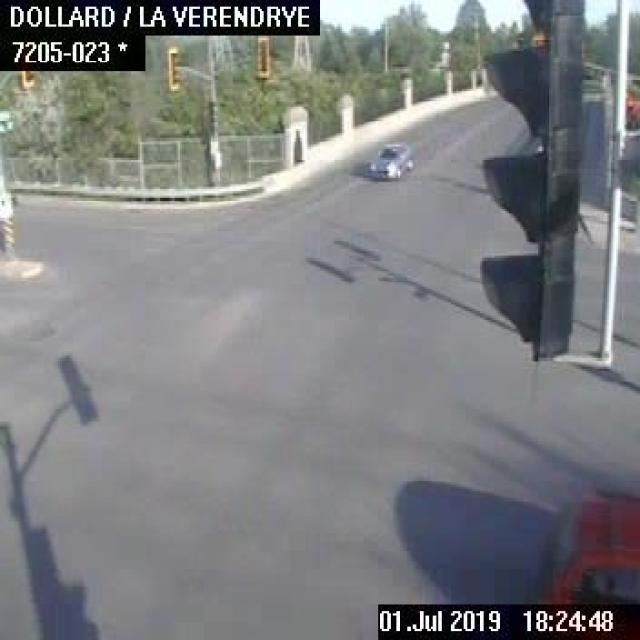vehicle: (531, 491, 638, 602), (367, 140, 415, 180)
